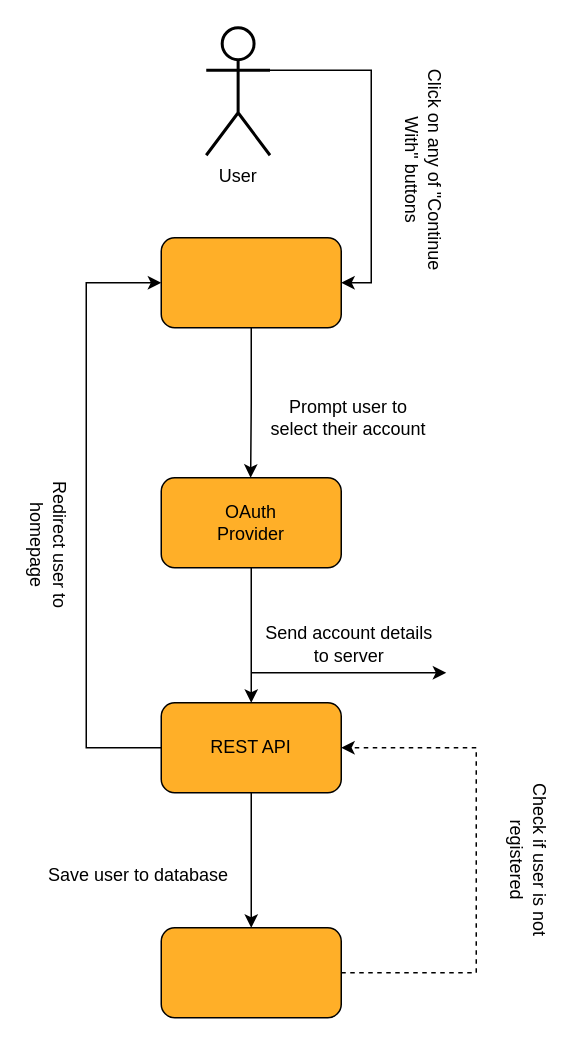
Image size: 576x1044. Some labels were removed from this diagram. The shapes that lost their labels are listed below. From the top down, each one's centre as x and y in pixels, then its label:
the point at 250,282: Frontend
the point at 250,972: Database
